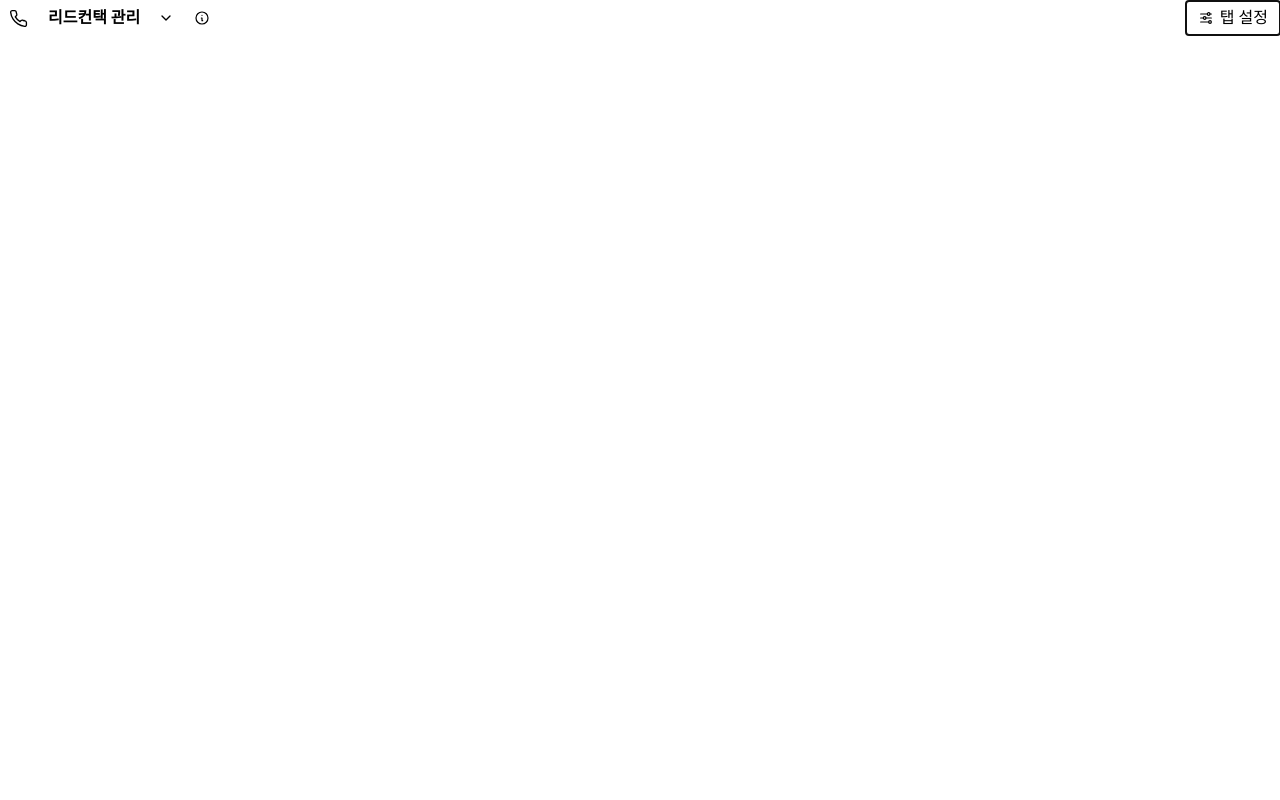
Scenario: 탭 설정 › 일반 › 저장이 거절되면 원래 아이콘으로 돌아가고 이유를 알린다
The image size is (1280, 800).
Click the button "탭 설정" at (1233, 18), box [1186,1,1279,35]
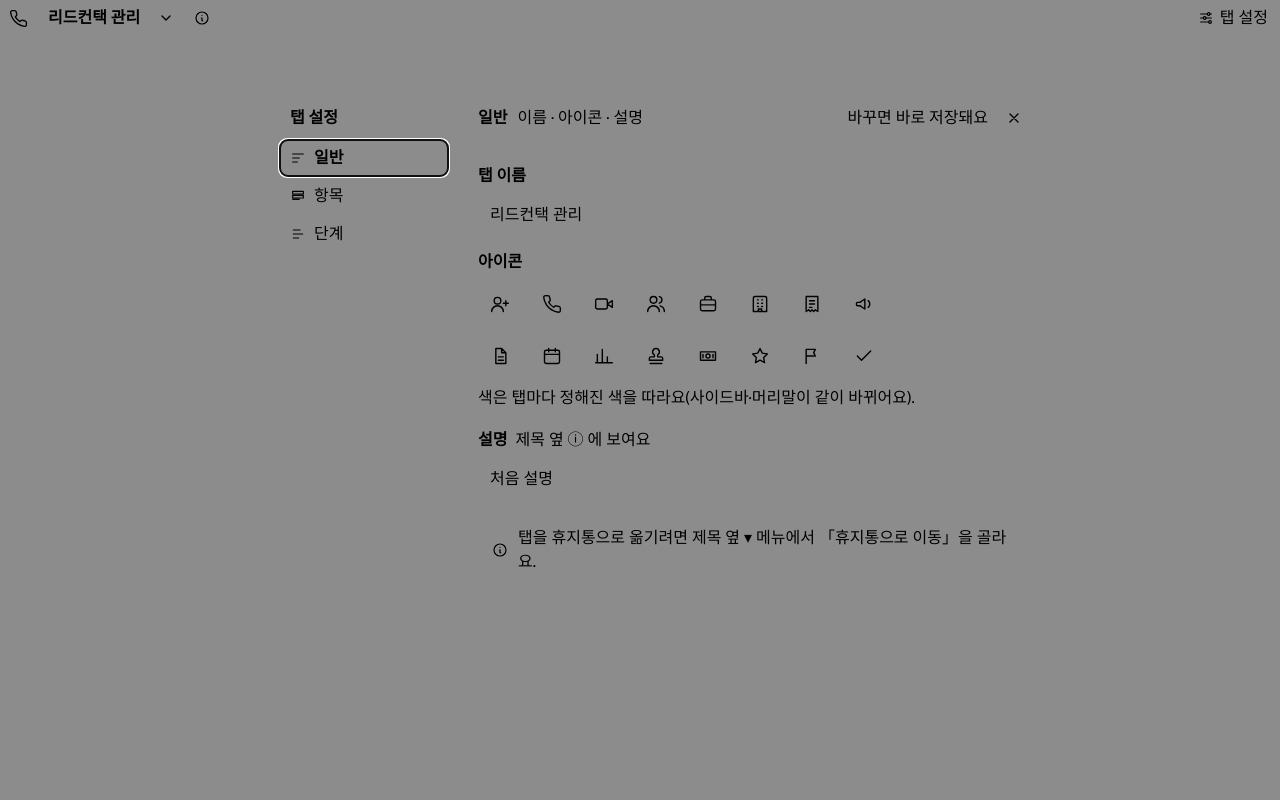
Click the button named "깃발" at (812, 356), box [790,334,834,378]
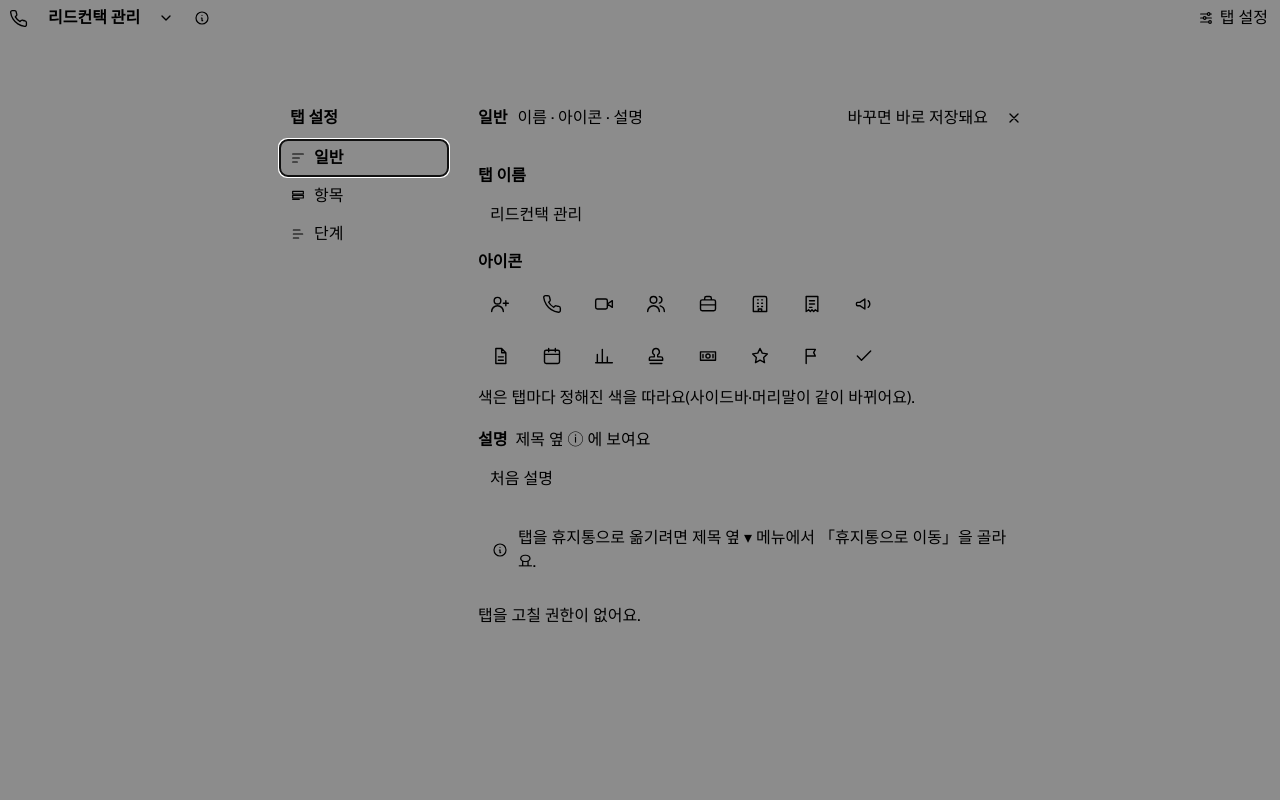
Expected: the message "탭을 고칠 권한이 없어요." is shown, [478,605,640,626]
